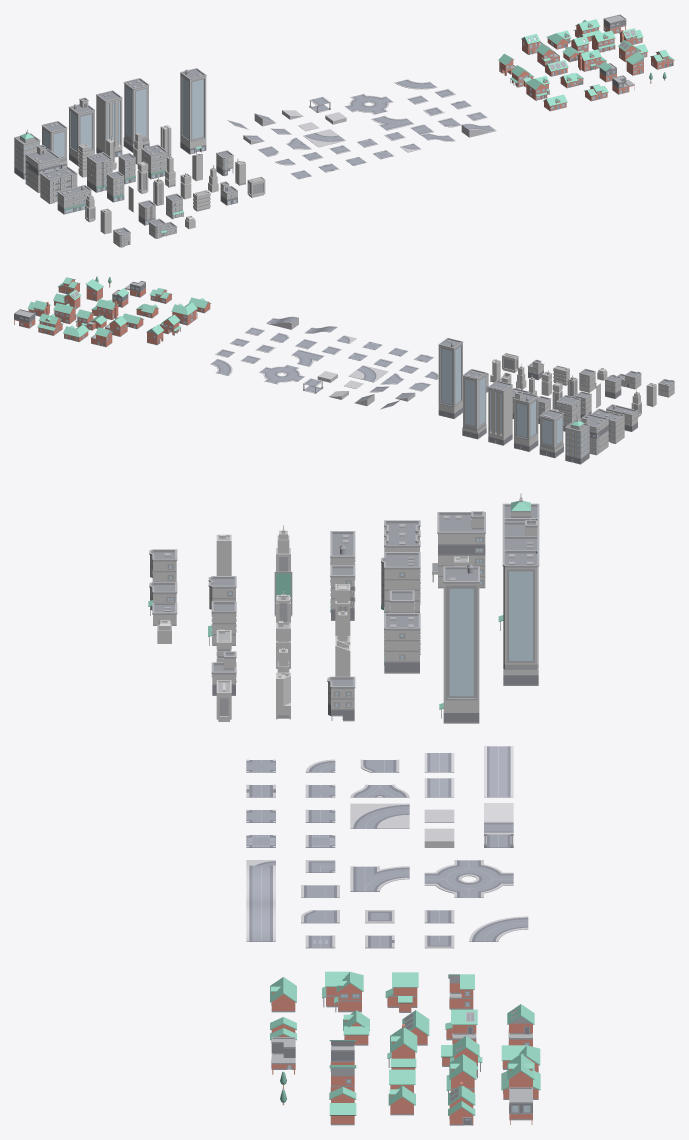
Rendered from tileset.glb.
3 renders of one model, top to bottom at view 1: azimuth 30°, elevation 25°; view 2: azimuth 150°, elevation 25°; view 3: azimuth 270°, elevation 25°, orthographic. The views are drawn at different scales.
Parts seen in each view (by area): view 1: skyscraperD, skyscraperB, skyscraperF, skyscraperC, large_buildingG, large_buildingA, large_buildingE, skyscraperA, large_buildingF, skyscraperE, large_buildingD, road_roundabout (+16 smaller); view 2: skyscraperD, skyscraperB, skyscraperF, skyscraperC, skyscraperA, skyscraperE, large_buildingG, large_buildingA, road_roundabout, large_buildingE, house_type10, large_buildingF (+18 smaller); view 3: skyscraperD, skyscraperB, large_buildingG, road_roundabout, large_buildingD, large_buildingE, road_curvePavement, house_type02, road_curveIntersection, house_type03, house_type06, small_buildingC (+14 smaller).
Part boxes in pixels (x1,y1,x2,y2): skyscraperD: [180, 68, 206, 154]; skyscraperB: [123, 78, 149, 152]; skyscraperF: [96, 90, 122, 157]; skyscraperC: [68, 97, 94, 166]; large_buildingG: [25, 144, 60, 192]; large_buildingA: [40, 166, 77, 203]; large_buildingE: [86, 152, 112, 192]; skyscraperA: [41, 121, 67, 168]; large_buildingF: [57, 185, 91, 214]; skyscraperE: [14, 129, 40, 179]; large_buildingD: [141, 144, 167, 179]; road_roundabout: [345, 94, 393, 114]; skyscraperD: [438, 338, 463, 418]; skyscraperB: [462, 369, 486, 439]; skyscraperF: [488, 380, 512, 445]; skyscraperC: [513, 391, 538, 451]; skyscraperA: [539, 409, 563, 458]; skyscraperE: [565, 417, 589, 464]; large_buildingG: [578, 413, 608, 455]; large_buildingA: [591, 408, 624, 443]; road_roundabout: [259, 364, 304, 384]; large_buildingE: [556, 395, 580, 431]; house_type10: [75, 309, 107, 330]; large_buildingF: [606, 404, 637, 431]; skyscraperD: [439, 564, 479, 723]; skyscraperB: [502, 550, 539, 685]; large_buildingG: [432, 511, 485, 588]; road_roundabout: [424, 860, 513, 897]; large_buildingD: [384, 613, 420, 673]; large_buildingE: [381, 552, 420, 612]; road_curvePavement: [350, 803, 409, 828]; house_type02: [322, 971, 363, 1012]; road_curveIntersection: [350, 866, 409, 891]; house_type03: [388, 1069, 415, 1115]; house_type06: [501, 1054, 540, 1099]; small_buildingC: [327, 676, 355, 721].
Bounding box in the file's own units: 44.69 × 5.5 × 13.21.
